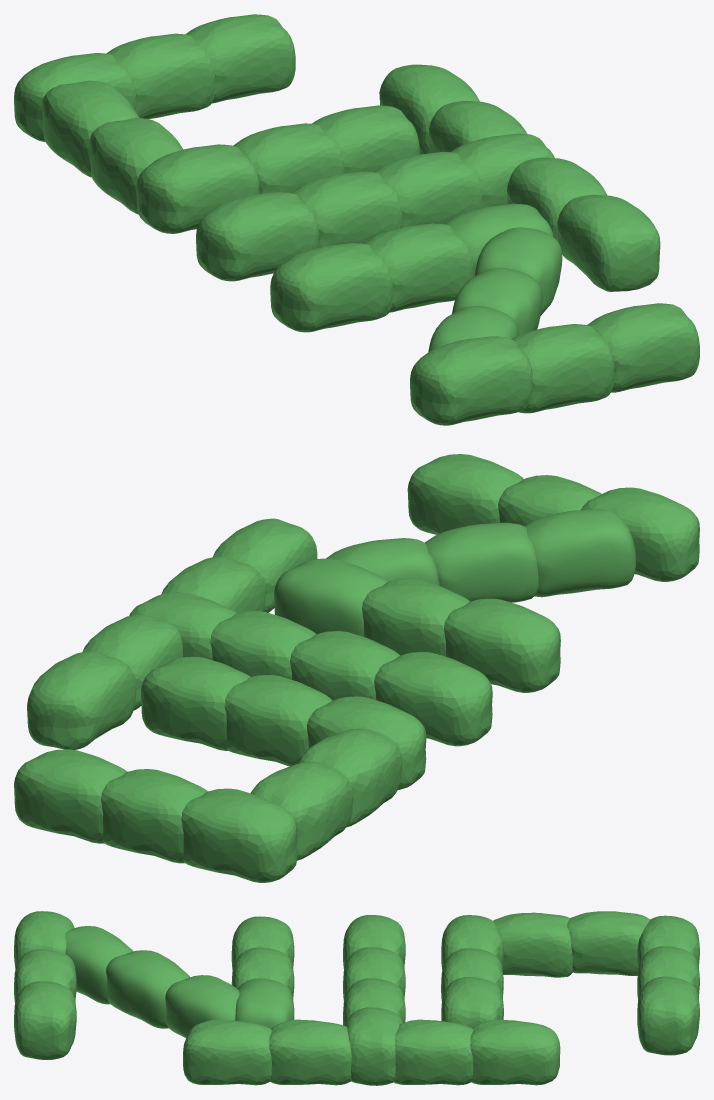
The model's file is arbustoUTN.glb.
The picture shows the model from 3 angles, top to bottom: view 1: azimuth 30°, elevation 25°; view 2: azimuth 150°, elevation 25°; view 3: azimuth 270°, elevation 25°; orthographic projection. The views are drawn at different scales.
Visible parts, largest first — view 1: Icosphere.022; view 2: Icosphere.022; view 3: Icosphere.022.
Part boxes in pixels (x1=…): Icosphere.022: x1=14, y1=14, x2=699, y2=425; Icosphere.022: x1=14, y1=454, x2=699, y2=882; Icosphere.022: x1=14, y1=911, x2=699, y2=1085.
Bounding box in the file's own units: 1.31 × 0.2782 × 2.84.
